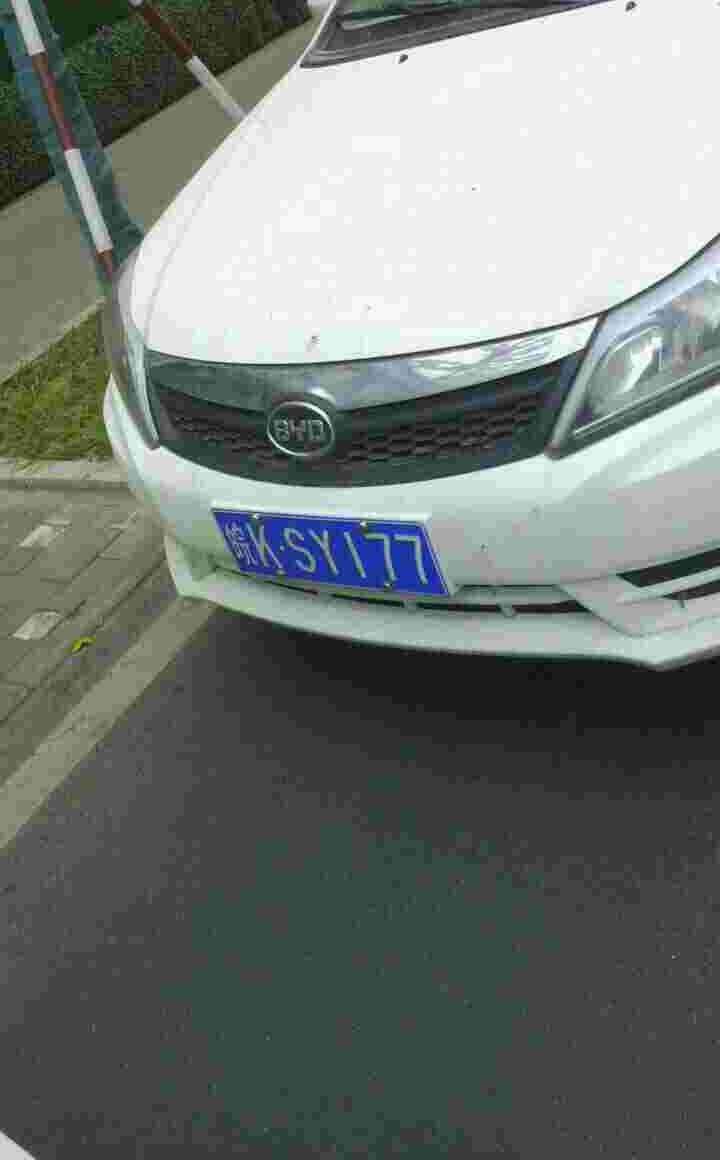license_plate: (222, 509, 447, 604)
